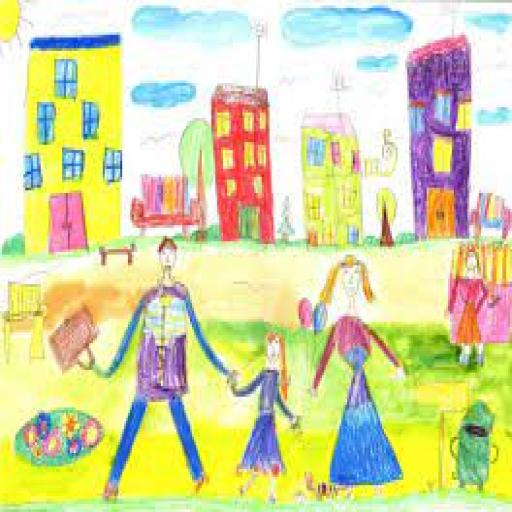person: (80, 233, 239, 505), (304, 253, 406, 501), (220, 328, 304, 509), (438, 232, 501, 377)
